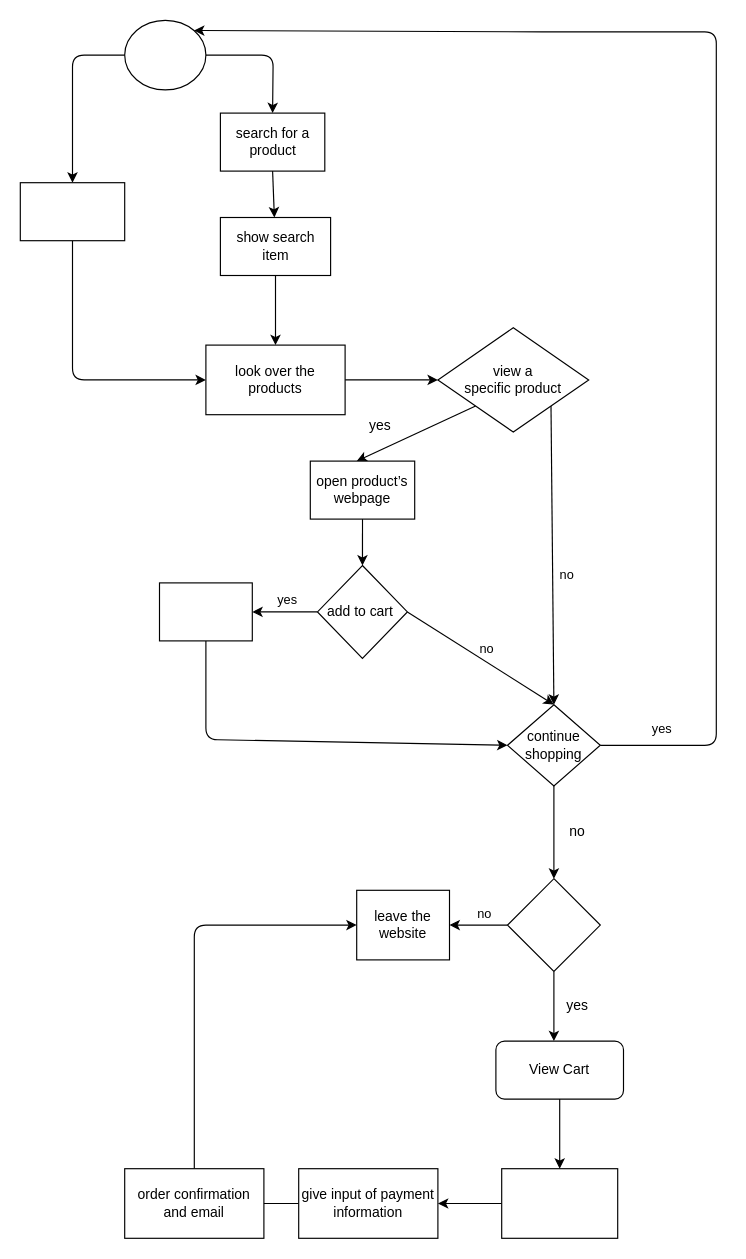
The diagram is 746 pixels wide and 1259 high, and some of its shapes have lost their labels. The shapes that lost their labels are listed below. From the top down, each one's centre as x and y in pixels, then its label:
(165,54): start
(72,211): explore the product
(205,611): added to cart confirmation
(553,924): check out
(559,1203): View Payment
